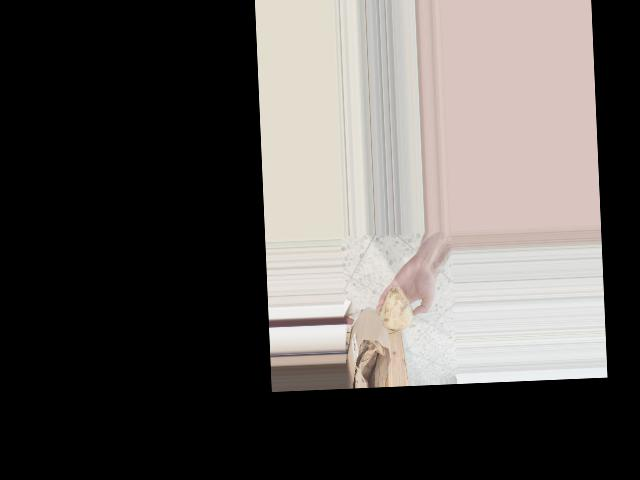onion: (378, 283, 414, 335)
